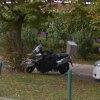Motorcycle: (21, 40, 80, 81)
